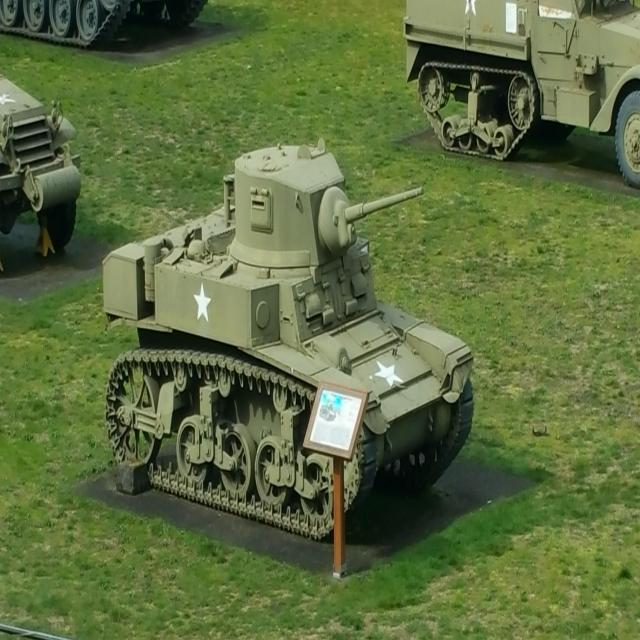MIL_MBT: (95, 136, 478, 578)
